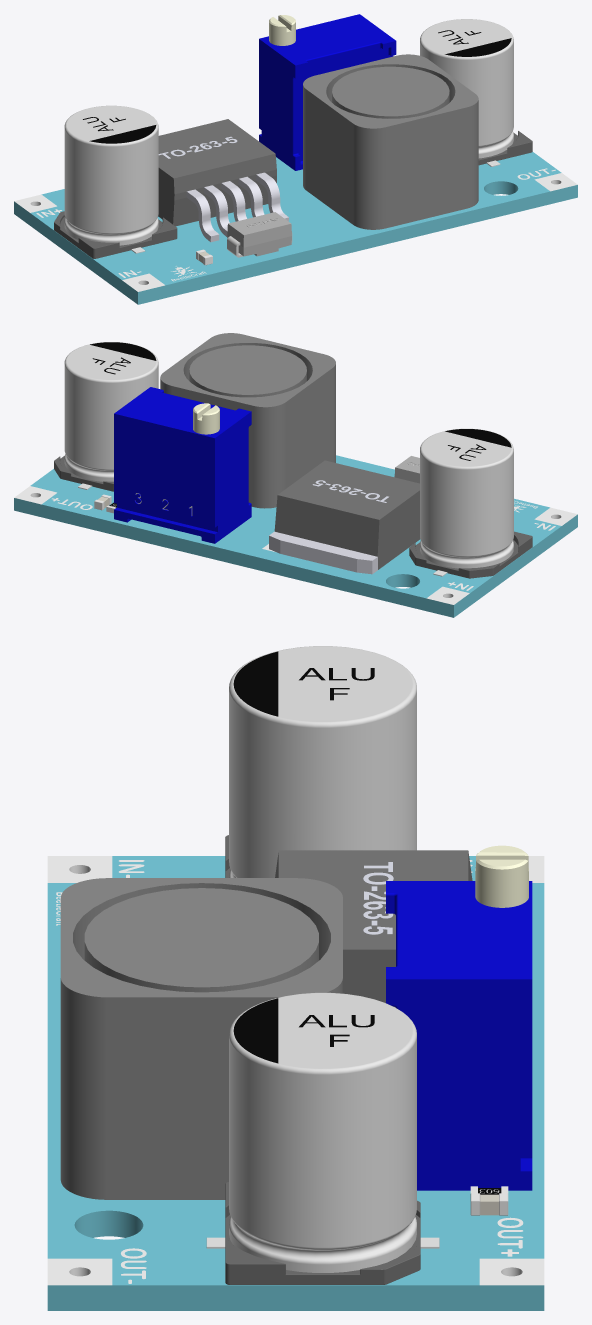
Rendered from buck.glb.
3 renders of one model, top to bottom at view 1: azimuth 30°, elevation 25°; view 2: azimuth 150°, elevation 25°; view 3: azimuth 270°, elevation 25°, orthographic. The views are drawn at different scales.
Parts seen in each view (by area): view 1: INDUCTOR_LM2596, PCB_LM2596 corrected 061823, User Library-DC-DC MODULE LM2596s_User Library-ALU-F_K_X_F6r (×2), User Library-DC-DC MODULE LM2596s_User Library-TO-263-5_TO-2 (×2), POT_LM2596, DIODE_LM2596, User Library-DC-DC MODULE LM2596s_User Library-ALU-F_Fuss_1 (×2), User Library-DC-DC MODULE LM2596s_User Library-ALU-F_Beschri (×2); view 2: User Library-DC-DC MODULE LM2596s_User Library-ALU-F_K_X_F6r (×2), PCB_LM2596 corrected 061823, POT_LM2596, INDUCTOR_LM2596, User Library-DC-DC MODULE LM2596s_User Library-TO-263-5_TO-2 (×2), User Library-DC-DC MODULE LM2596s_User Library-ALU-F_Fuss_1 (×2), User Library-DC-DC MODULE LM2596s_User Library-ALU-F_Beschri (×2), DIODE_LM2596; view 3: User Library-DC-DC MODULE LM2596s_User Library-ALU-F_K_X_F6r (×2), INDUCTOR_LM2596, PCB_LM2596 corrected 061823, POT_LM2596, User Library-DC-DC MODULE LM2596s_User Library-TO-263-5_TO-2, User Library-DC-DC MODULE LM2596s_User Library-ALU-F_Beschri (×2), User Library-DC-DC MODULE LM2596s_User Library-ALU-F_Fuss_1, User Library-DC-DC MODULE LM2596s_C0603.
Part boxes in pixels (x1=…): INDUCTOR_LM2596: x1=303, y1=54, x2=478, y2=229; PCB_LM2596 corrected 061823: x1=14, y1=152, x2=577, y2=304; User Library-DC-DC MODULE LM2596s_User Library-ALU-F_K_X_F6r (×2): x1=64, y1=19, x2=513, y2=245; User Library-DC-DC MODULE LM2596s_User Library-TO-263-5_TO-2 (×2): x1=158, y1=119, x2=288, y2=242; POT_LM2596: x1=259, y1=14, x2=396, y2=170; DIODE_LM2596: x1=227, y1=212, x2=292, y2=257; User Library-DC-DC MODULE LM2596s_User Library-ALU-F_Fuss_1 (×2): x1=54, y1=131, x2=532, y2=258; User Library-DC-DC MODULE LM2596s_User Library-ALU-F_Beschri (×2): x1=83, y1=30, x2=511, y2=143; User Library-DC-DC MODULE LM2596s_User Library-ALU-F_K_X_F6r (×2): x1=64, y1=342, x2=513, y2=568; PCB_LM2596 corrected 061823: x1=14, y1=455, x2=577, y2=617; POT_LM2596: x1=114, y1=387, x2=251, y2=543; INDUCTOR_LM2596: x1=160, y1=333, x2=335, y2=508; User Library-DC-DC MODULE LM2596s_User Library-TO-263-5_TO-2 (×2): x1=269, y1=460, x2=419, y2=574; User Library-DC-DC MODULE LM2596s_User Library-ALU-F_Fuss_1 (×2): x1=54, y1=456, x2=532, y2=578; User Library-DC-DC MODULE LM2596s_User Library-ALU-F_Beschri (×2): x1=90, y1=342, x2=511, y2=460; DIODE_LM2596: x1=394, y1=456, x2=419, y2=483; User Library-DC-DC MODULE LM2596s_User Library-ALU-F_K_X_F6r (×2): x1=229, y1=646, x2=416, y2=1272; INDUCTOR_LM2596: x1=60, y1=878, x2=342, y2=1199; PCB_LM2596 corrected 061823: x1=47, y1=856, x2=544, y2=1310; POT_LM2596: x1=386, y1=845, x2=532, y2=1190; User Library-DC-DC MODULE LM2596s_User Library-TO-263-5_TO-2: x1=275, y1=850, x2=472, y2=1007; User Library-DC-DC MODULE LM2596s_User Library-ALU-F_Beschri (×2): x1=233, y1=651, x2=374, y2=1063; User Library-DC-DC MODULE LM2596s_User Library-ALU-F_Fuss_1: x1=225, y1=1182, x2=420, y2=1284; User Library-DC-DC MODULE LM2596s_C0603: x1=470, y1=1193, x2=508, y2=1215.
Bounding box in the file's own units: 0.0432 × 0.0138 × 0.0211.
